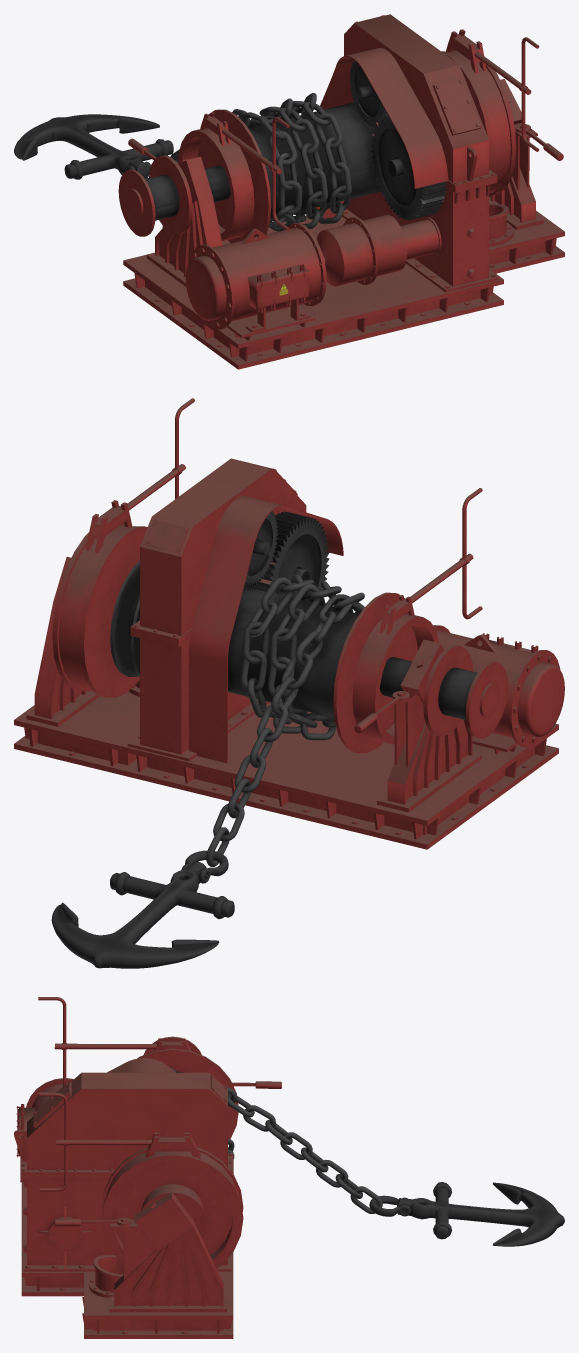
File: Winch.obj
The picture shows the model from 3 angles, top to bottom: view 1: azimuth 30°, elevation 25°; view 2: azimuth 150°, elevation 25°; view 3: azimuth 270°, elevation 25°; orthographic projection. The views are drawn at different scales.
Visible parts, largest first — view 1: Anchor_Winch, Ship_Anchor; view 2: Anchor_Winch, Ship_Anchor; view 3: Anchor_Winch, Ship_Anchor.
Part boxes in pixels (x1=…): Anchor_Winch: x1=118, y1=14, x2=564, y2=369; Ship_Anchor: x1=14, y1=114, x2=173, y2=179; Anchor_Winch: x1=14, y1=398, x2=564, y2=866; Ship_Anchor: x1=51, y1=850, x2=234, y2=968; Anchor_Winch: x1=14, y1=997, x2=382, y2=1338; Ship_Anchor: x1=369, y1=1182, x2=564, y2=1246.
Size of the model in its own units: 108 by 64.85 by 145.
2 materials, 2 textured.
